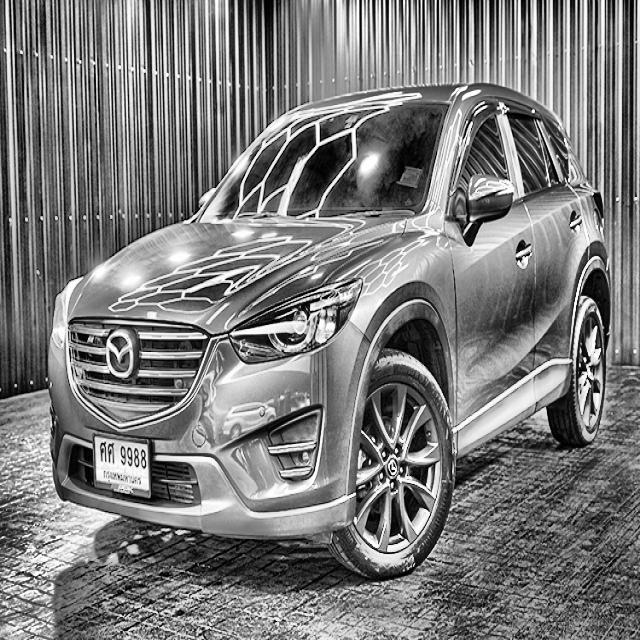license-plate: (91, 431, 154, 501)
